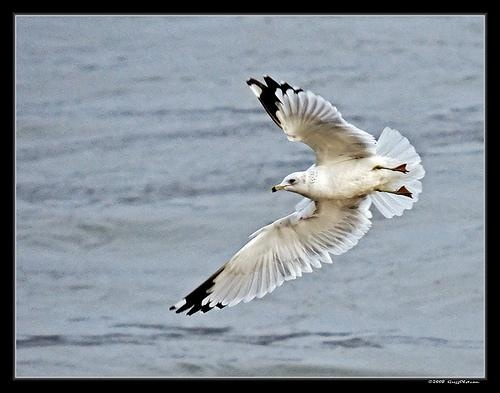bird: (165, 69, 428, 323)
